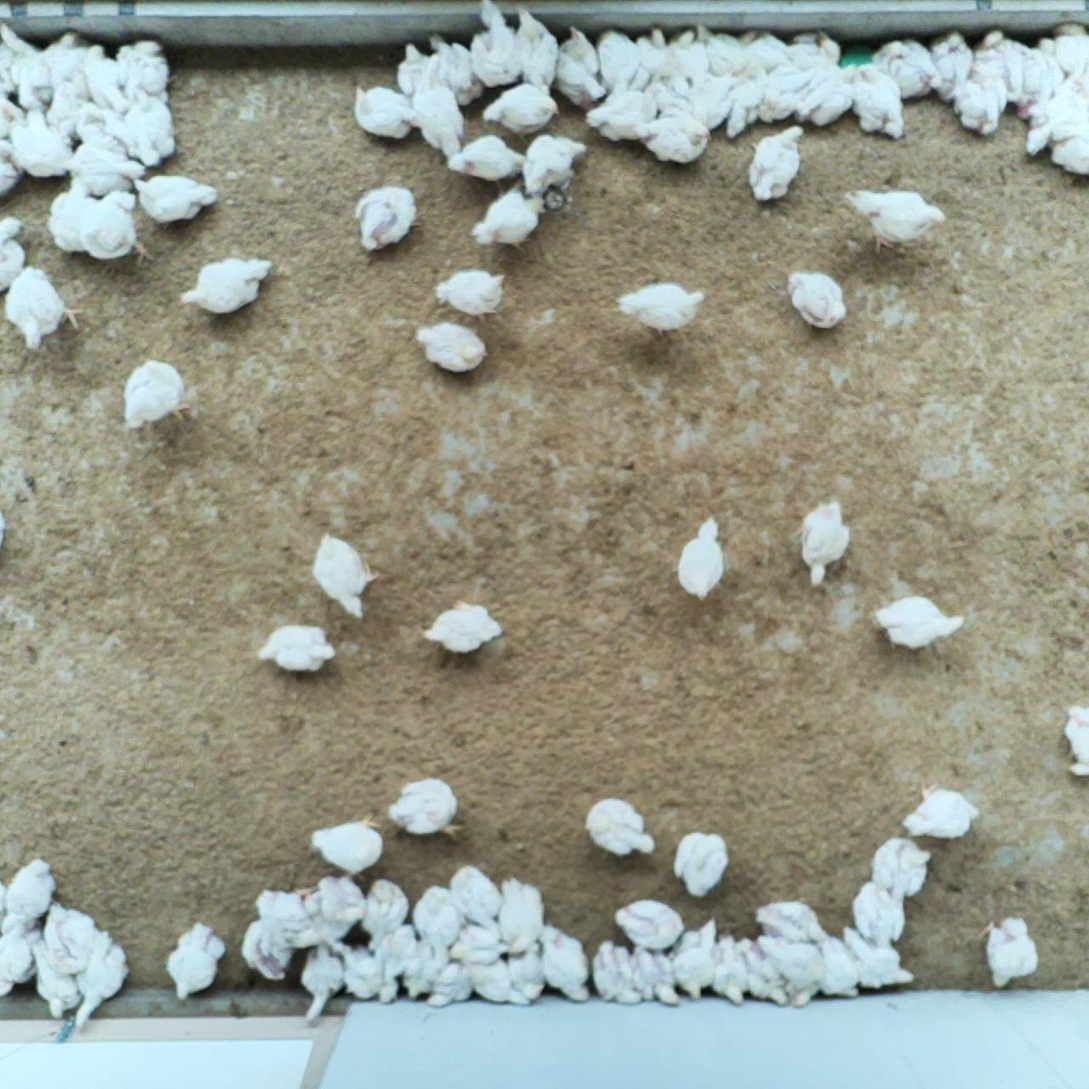chicken: (839, 178, 954, 257), (0, 261, 87, 358), (866, 583, 972, 656), (76, 188, 159, 274), (311, 525, 383, 623), (69, 927, 132, 1032), (609, 277, 711, 339), (580, 793, 666, 864), (895, 775, 985, 842), (790, 495, 852, 591), (180, 252, 272, 316), (387, 774, 472, 843), (978, 904, 1045, 990), (164, 917, 226, 1009), (745, 123, 814, 205), (416, 24, 484, 107), (346, 180, 421, 255), (307, 804, 387, 874), (469, 180, 545, 253), (408, 883, 470, 971), (465, 0, 523, 94), (115, 355, 189, 428), (668, 825, 738, 902), (758, 933, 826, 1011), (416, 593, 504, 653), (582, 80, 657, 149), (492, 865, 547, 958), (842, 922, 917, 990), (6, 103, 74, 178), (1028, 71, 1089, 154), (535, 918, 593, 1005), (119, 88, 181, 169), (549, 19, 606, 107), (129, 172, 221, 226), (635, 106, 712, 170), (511, 2, 562, 98), (252, 620, 336, 678), (433, 262, 510, 325), (672, 512, 724, 604), (57, 142, 147, 195), (344, 77, 418, 141), (478, 83, 564, 138), (0, 851, 59, 931), (443, 134, 536, 184), (863, 832, 934, 897), (846, 873, 910, 945), (408, 73, 466, 152), (411, 318, 490, 375), (42, 895, 101, 971), (0, 19, 52, 105), (670, 914, 720, 1003), (357, 870, 411, 951), (780, 265, 847, 330), (610, 891, 685, 949), (366, 919, 417, 1002), (850, 60, 904, 138), (237, 915, 296, 985), (589, 936, 646, 1006), (882, 35, 939, 104), (525, 131, 587, 194), (256, 881, 320, 941), (749, 895, 827, 944), (1009, 33, 1056, 114), (299, 944, 346, 1025), (446, 858, 501, 927), (799, 61, 860, 123), (113, 36, 172, 98), (627, 942, 682, 1008), (736, 936, 787, 1006), (951, 64, 1003, 132), (309, 876, 363, 940), (29, 29, 91, 84), (42, 186, 95, 250), (592, 27, 641, 96), (813, 929, 862, 997), (32, 942, 77, 1014), (81, 42, 130, 107), (724, 67, 767, 140), (402, 932, 448, 1000), (1052, 695, 1089, 778), (711, 932, 752, 1006), (1046, 10, 1089, 80), (630, 22, 671, 93), (472, 958, 528, 1009), (691, 17, 741, 74), (49, 65, 94, 127), (934, 35, 978, 97), (446, 918, 504, 965), (761, 63, 808, 120), (0, 921, 37, 992), (0, 214, 30, 301), (334, 931, 376, 993), (689, 74, 742, 123), (388, 39, 434, 95), (664, 27, 707, 86), (506, 939, 548, 999), (786, 28, 847, 67), (428, 961, 470, 1012), (1045, 135, 1089, 175), (981, 22, 1012, 77), (649, 74, 696, 110), (741, 31, 787, 66), (0, 152, 20, 196)
